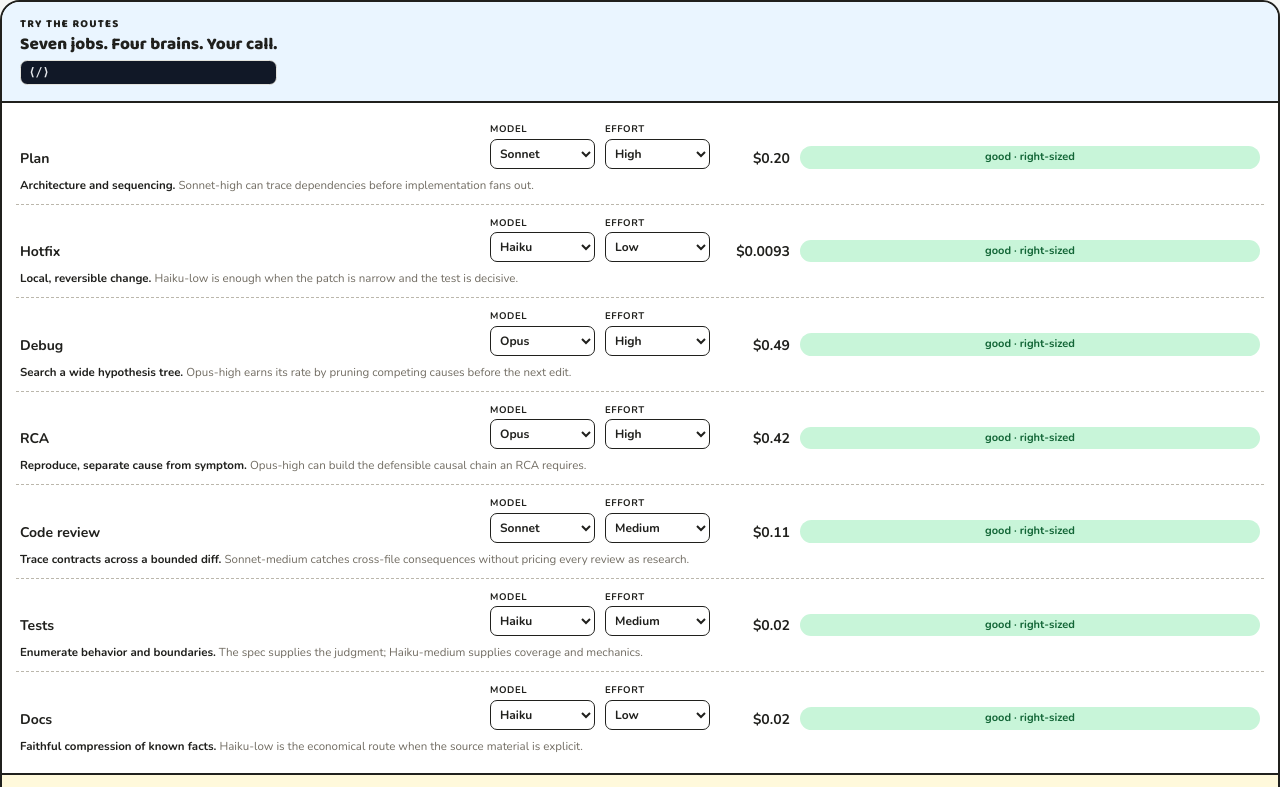
Test: Micro and Macro articles › prices every task choice and gives representative verdicts
Select "haiku" in the dropdown named "Plan model" at (542, 154), box [490,139,595,169]
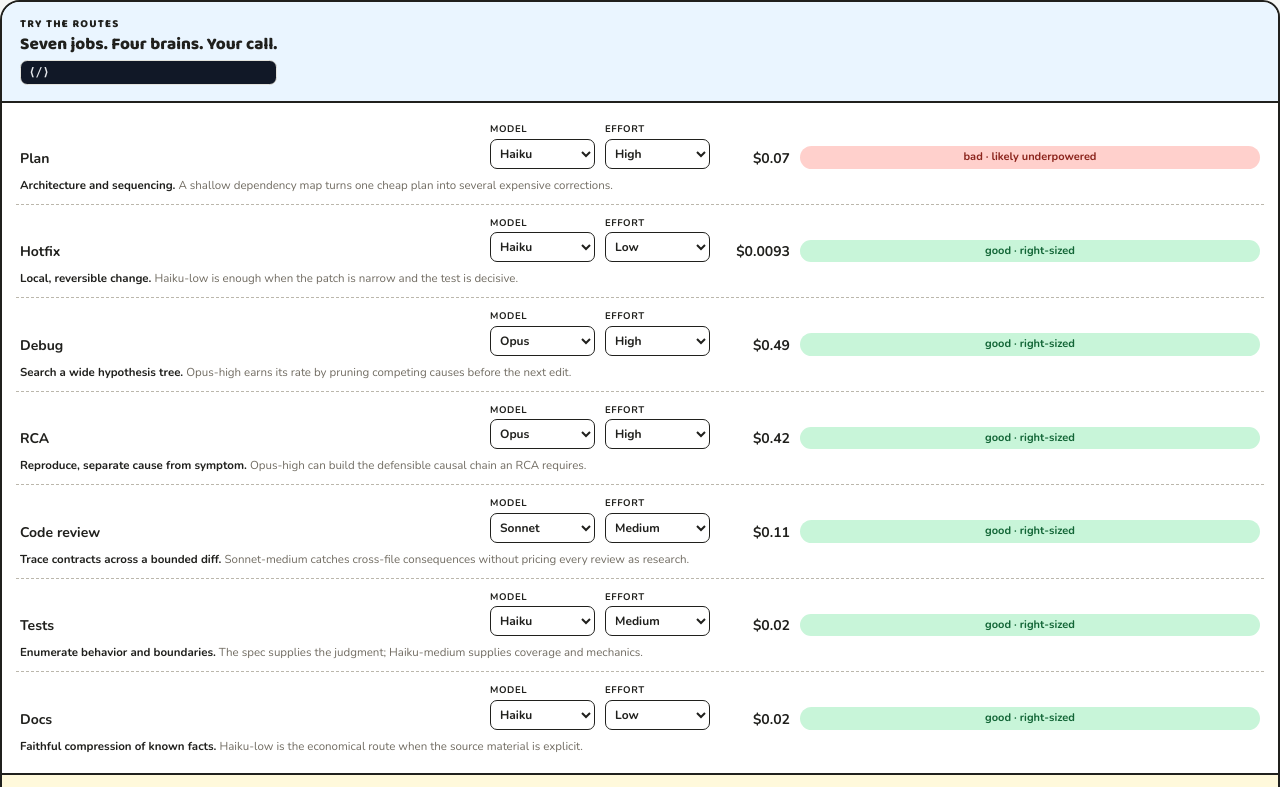
expect the text with test id "route-verdict" reads "bad · likely underpowered": met, box [964,149,1096,164]
expect the text "shallow dependency map" is shown: met, box [176,177,613,193]
Select "fable" in the dropdown named "Docs model" at (542, 715), box [490,700,595,730]
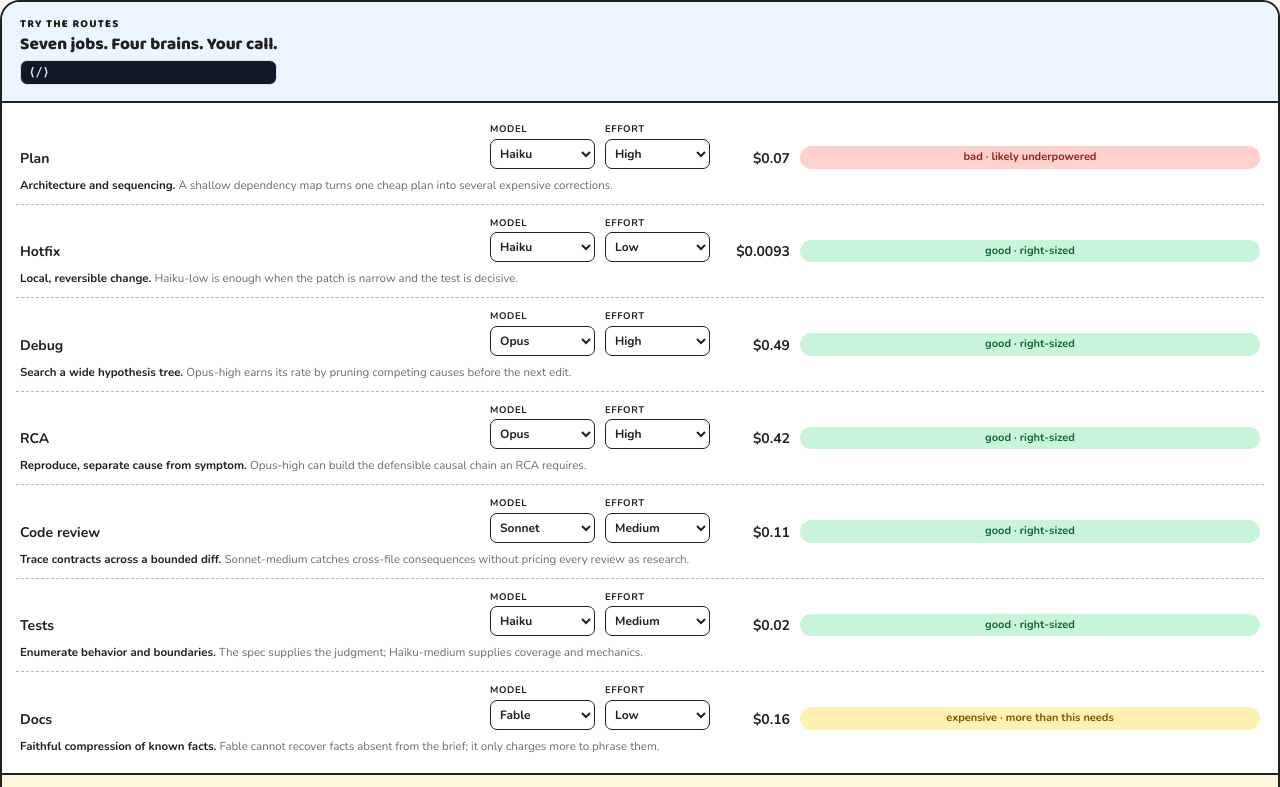
expect the text with test id "route-verdict" reads "expensive · more than this needs": met, box [946,710,1114,725]
expect the text "cannot recover facts absent from the brief" is shown: met, box [216,738,659,754]
